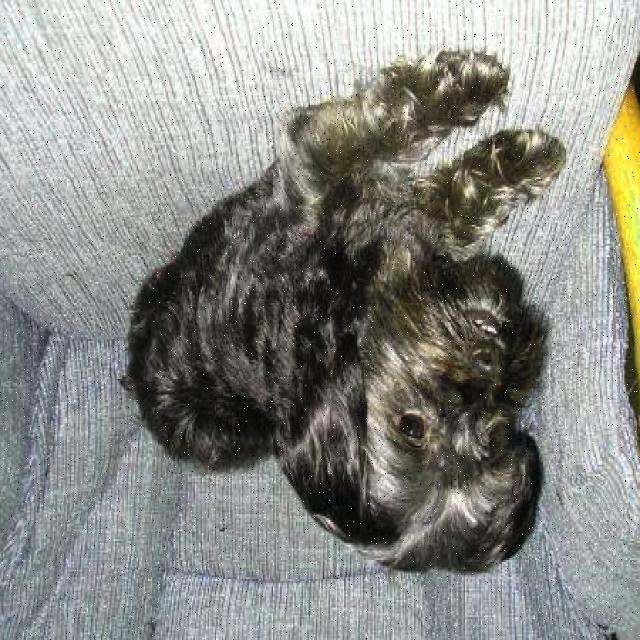Dog: (302, 274, 540, 583)
